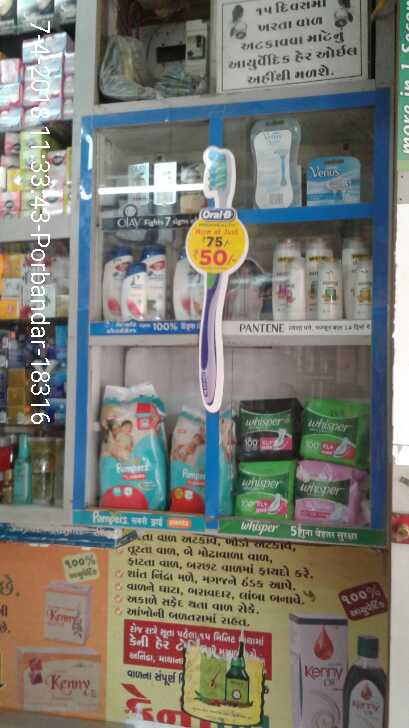venus: (250, 116, 302, 208), (306, 155, 358, 206)
